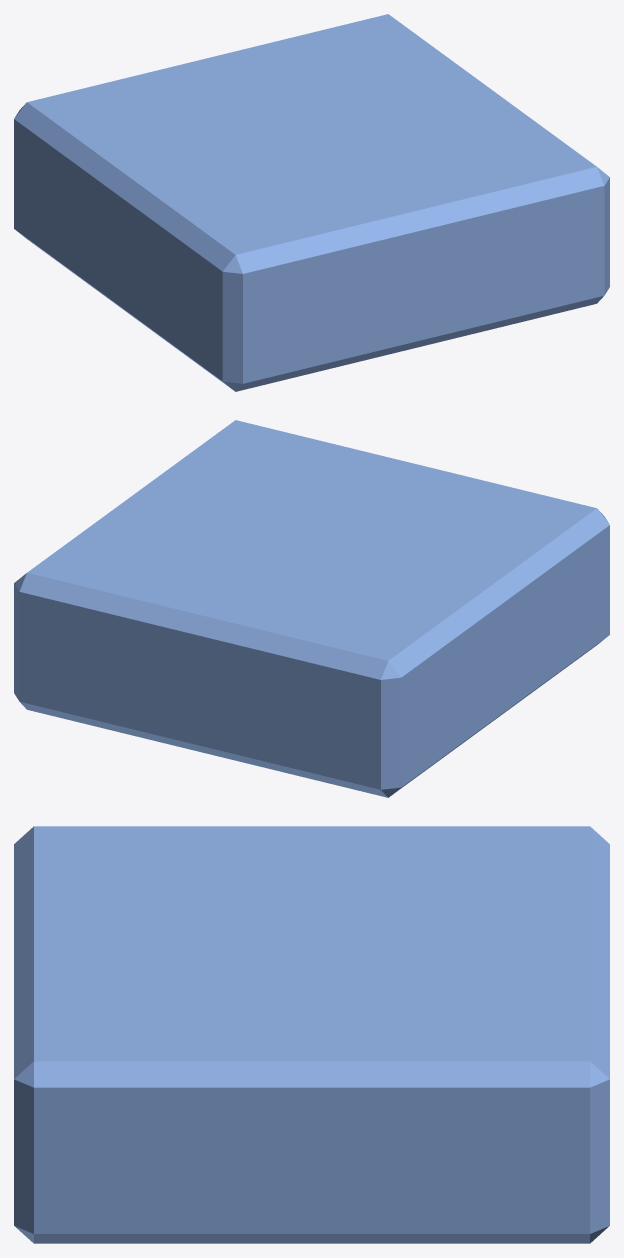
3 renders of one model, top to bottom at view 1: azimuth 30°, elevation 25°; view 2: azimuth 150°, elevation 25°; view 3: azimuth 270°, elevation 25°, orthographic. The views are drawn at different scales.
Parts seen in each view (by area): view 1: Cube.017; view 2: Cube.017; view 3: Cube.017.
Boxes of the visible parts, left/top/right/bottom form: Cube.017: left=14, top=14, right=609, bottom=391; Cube.017: left=14, top=420, right=609, bottom=797; Cube.017: left=14, top=826, right=609, bottom=1243.
Size of the model in its own units: 200 by 67.6 by 200.
